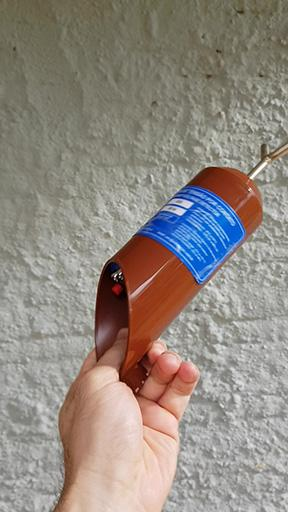Detector_Tensao_Contato: (94, 140, 286, 384)
